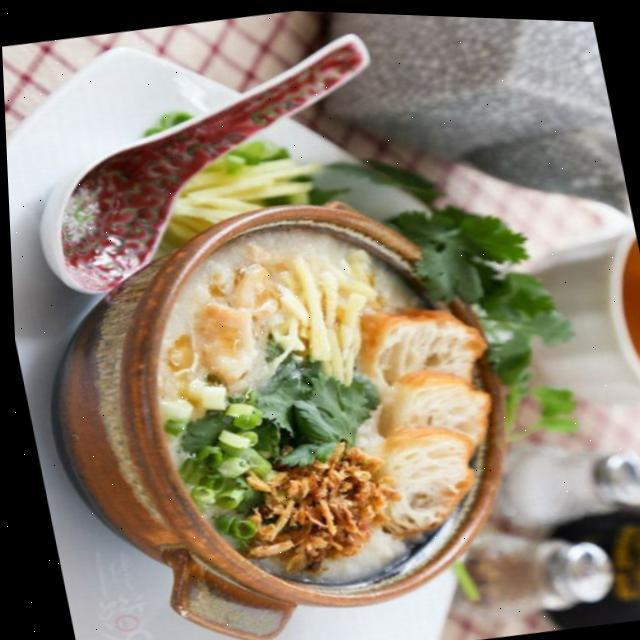bubur ayam: (127, 191, 530, 609)
mangkuk: (11, 166, 548, 640), (503, 218, 640, 428)
